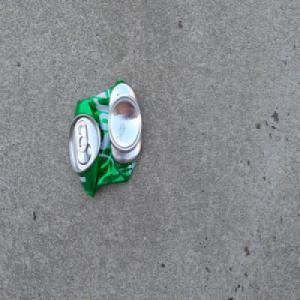SodaCan: (68, 78, 143, 199)
